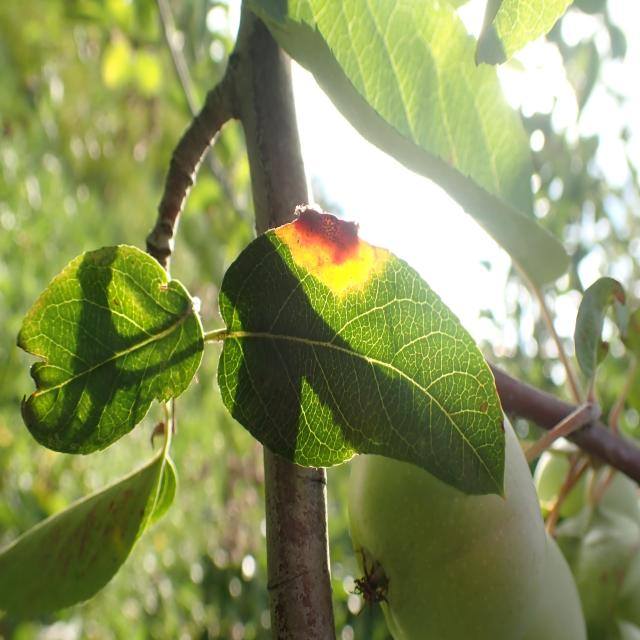Rust: (269, 148, 401, 337)
